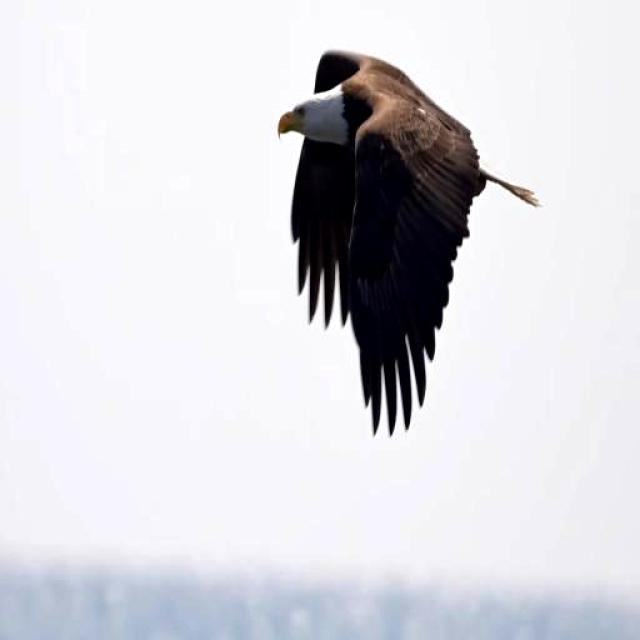airplane: (262, 34, 551, 442)
